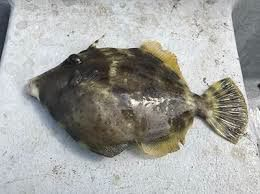kawahagi: (27, 11, 191, 176)
